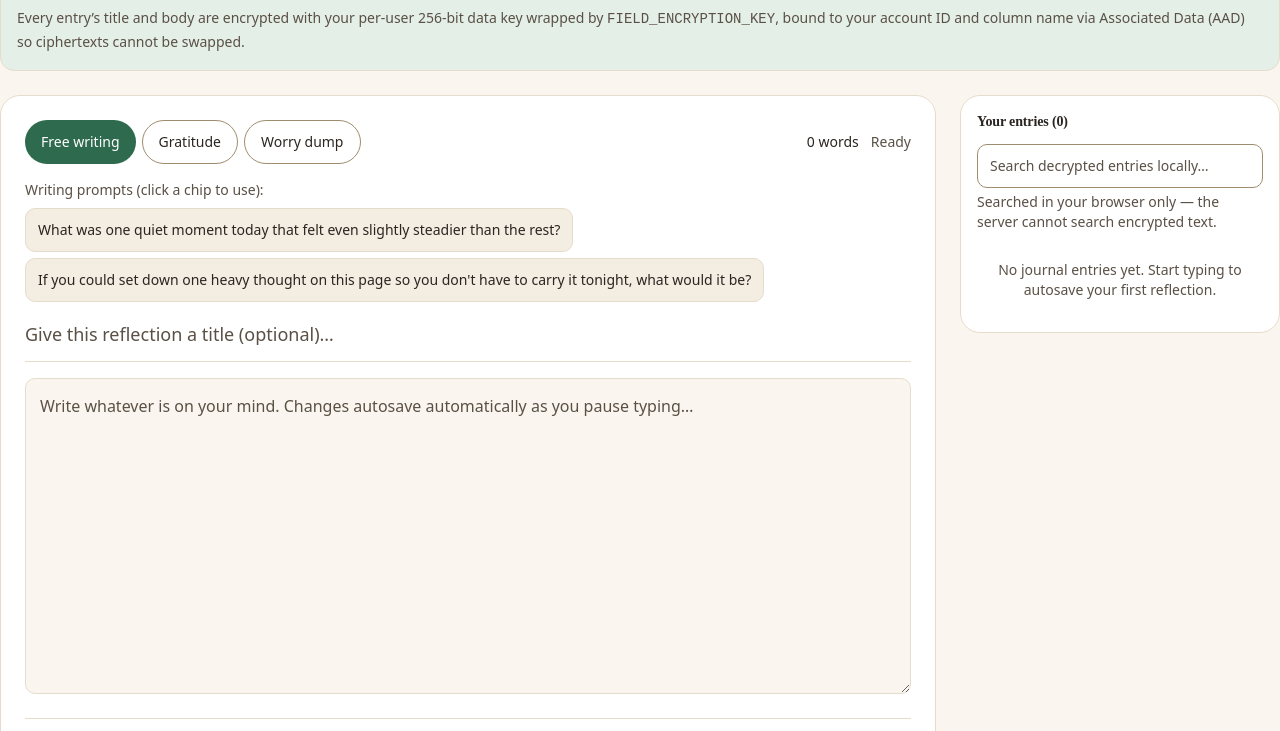
JournalView & markdown helpers › shows crisis resources card when safety engine flags a HIGH-risk entry
(page scrolled)
expect the text with test id "journal-empty-state" is shown: met, box [998,260,1242,298]
Type "I want to kill myself tonight." into the text box with test id "journal-body-input".
click(468, 536); type("I want to kill myself tonight.")  # box [25,378,911,694]
(page scrolled)
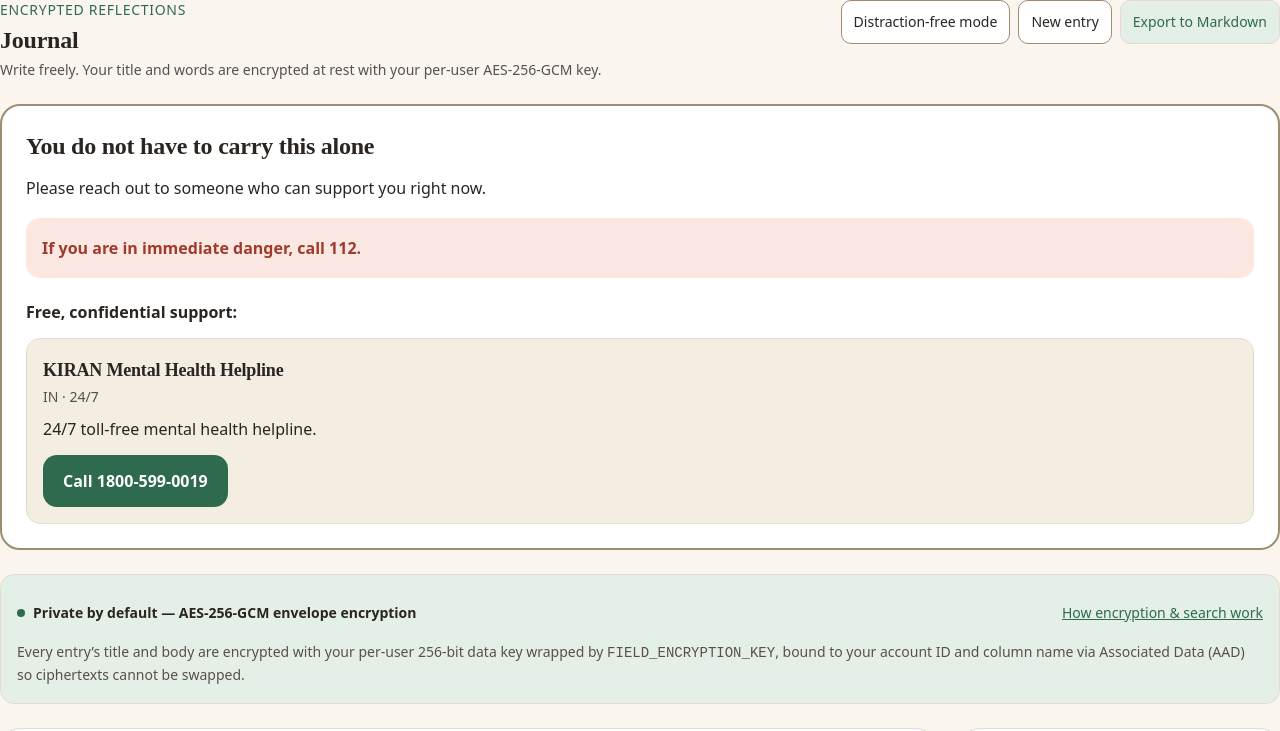
expect the message with test id "journal-crisis-card" is shown: met
expect the message with test id "journal-crisis-card" shows "KIRAN Mental Health Helpline": met, box [43,360,284,380]
